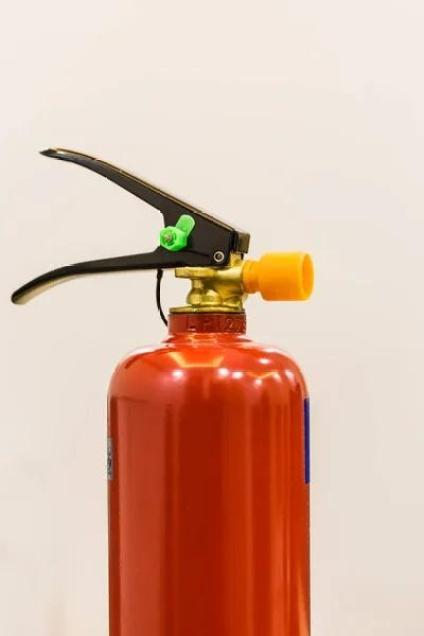APAR: (14, 147, 314, 635)
